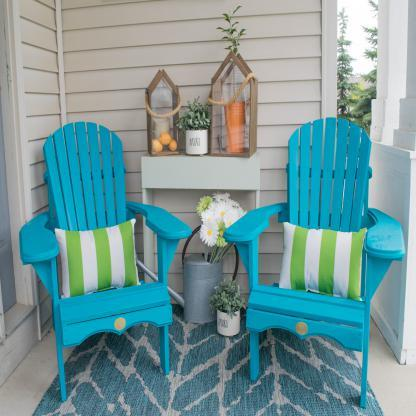chair: (218, 115, 408, 410), (17, 120, 194, 406)
table: (139, 150, 267, 311)
